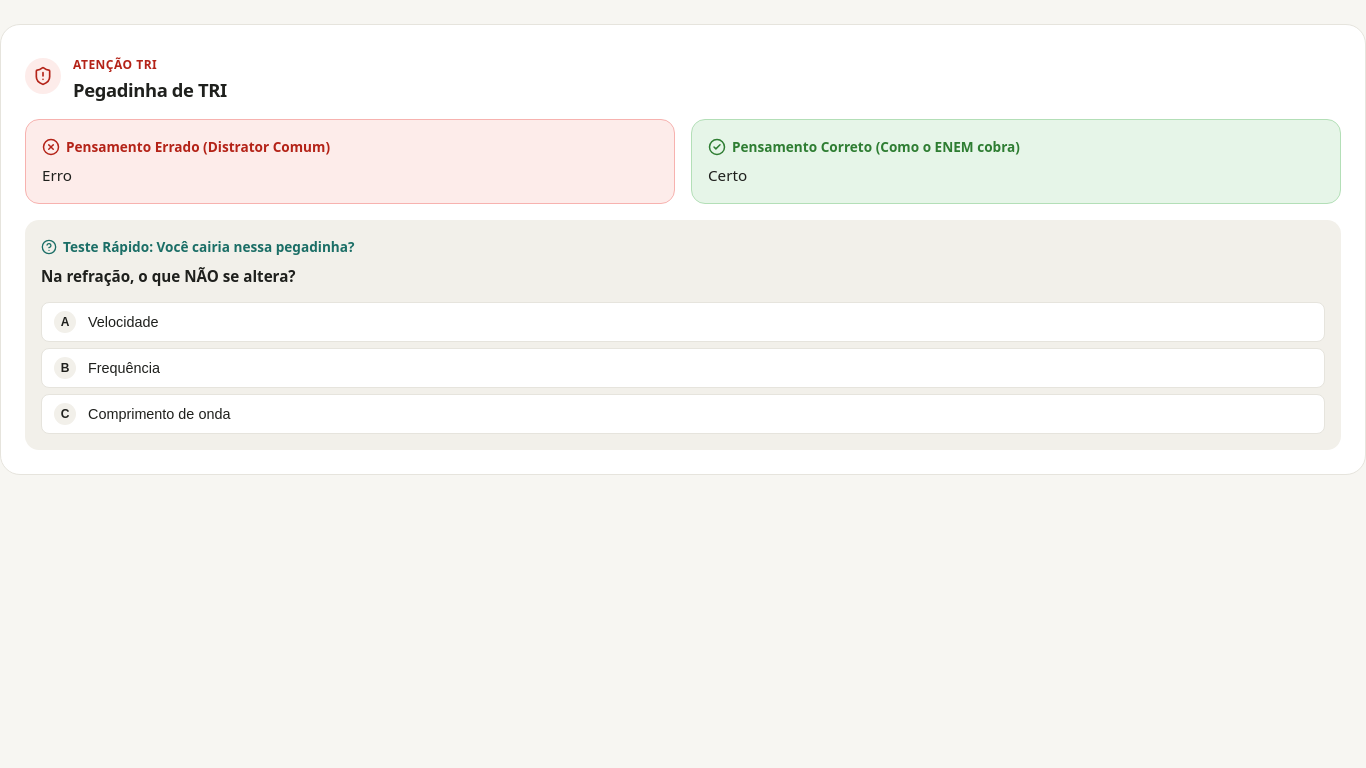
it: RadarPegadinhaCard › permite responder ao mini-quiz interativo
Expected: the text "Na refração, o que NÃO se altera?" is shown, [41,266,296,286]
Click the text "Frequência": (124, 368) [88,360,160,376]
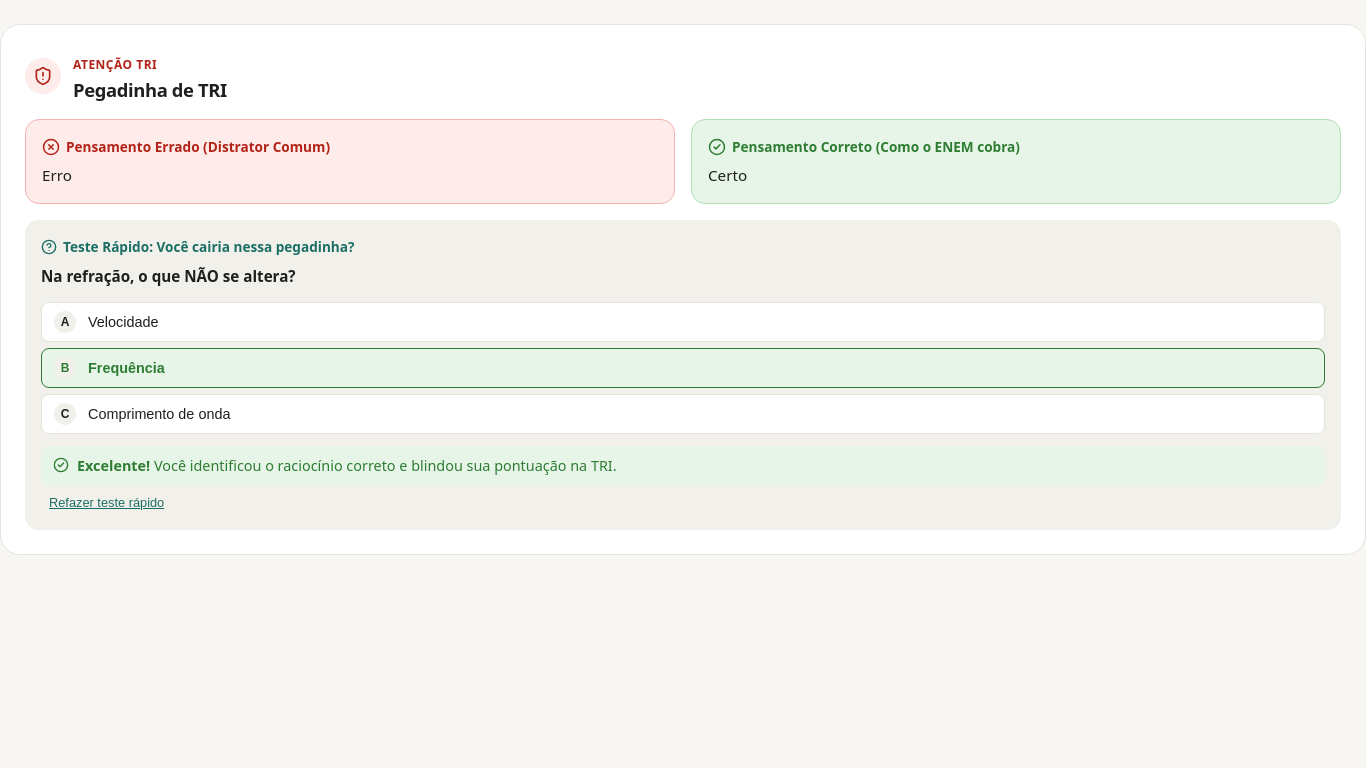
Expected: the text "Você identificou o raciocínio correto" is shown, [150,456,617,474]
